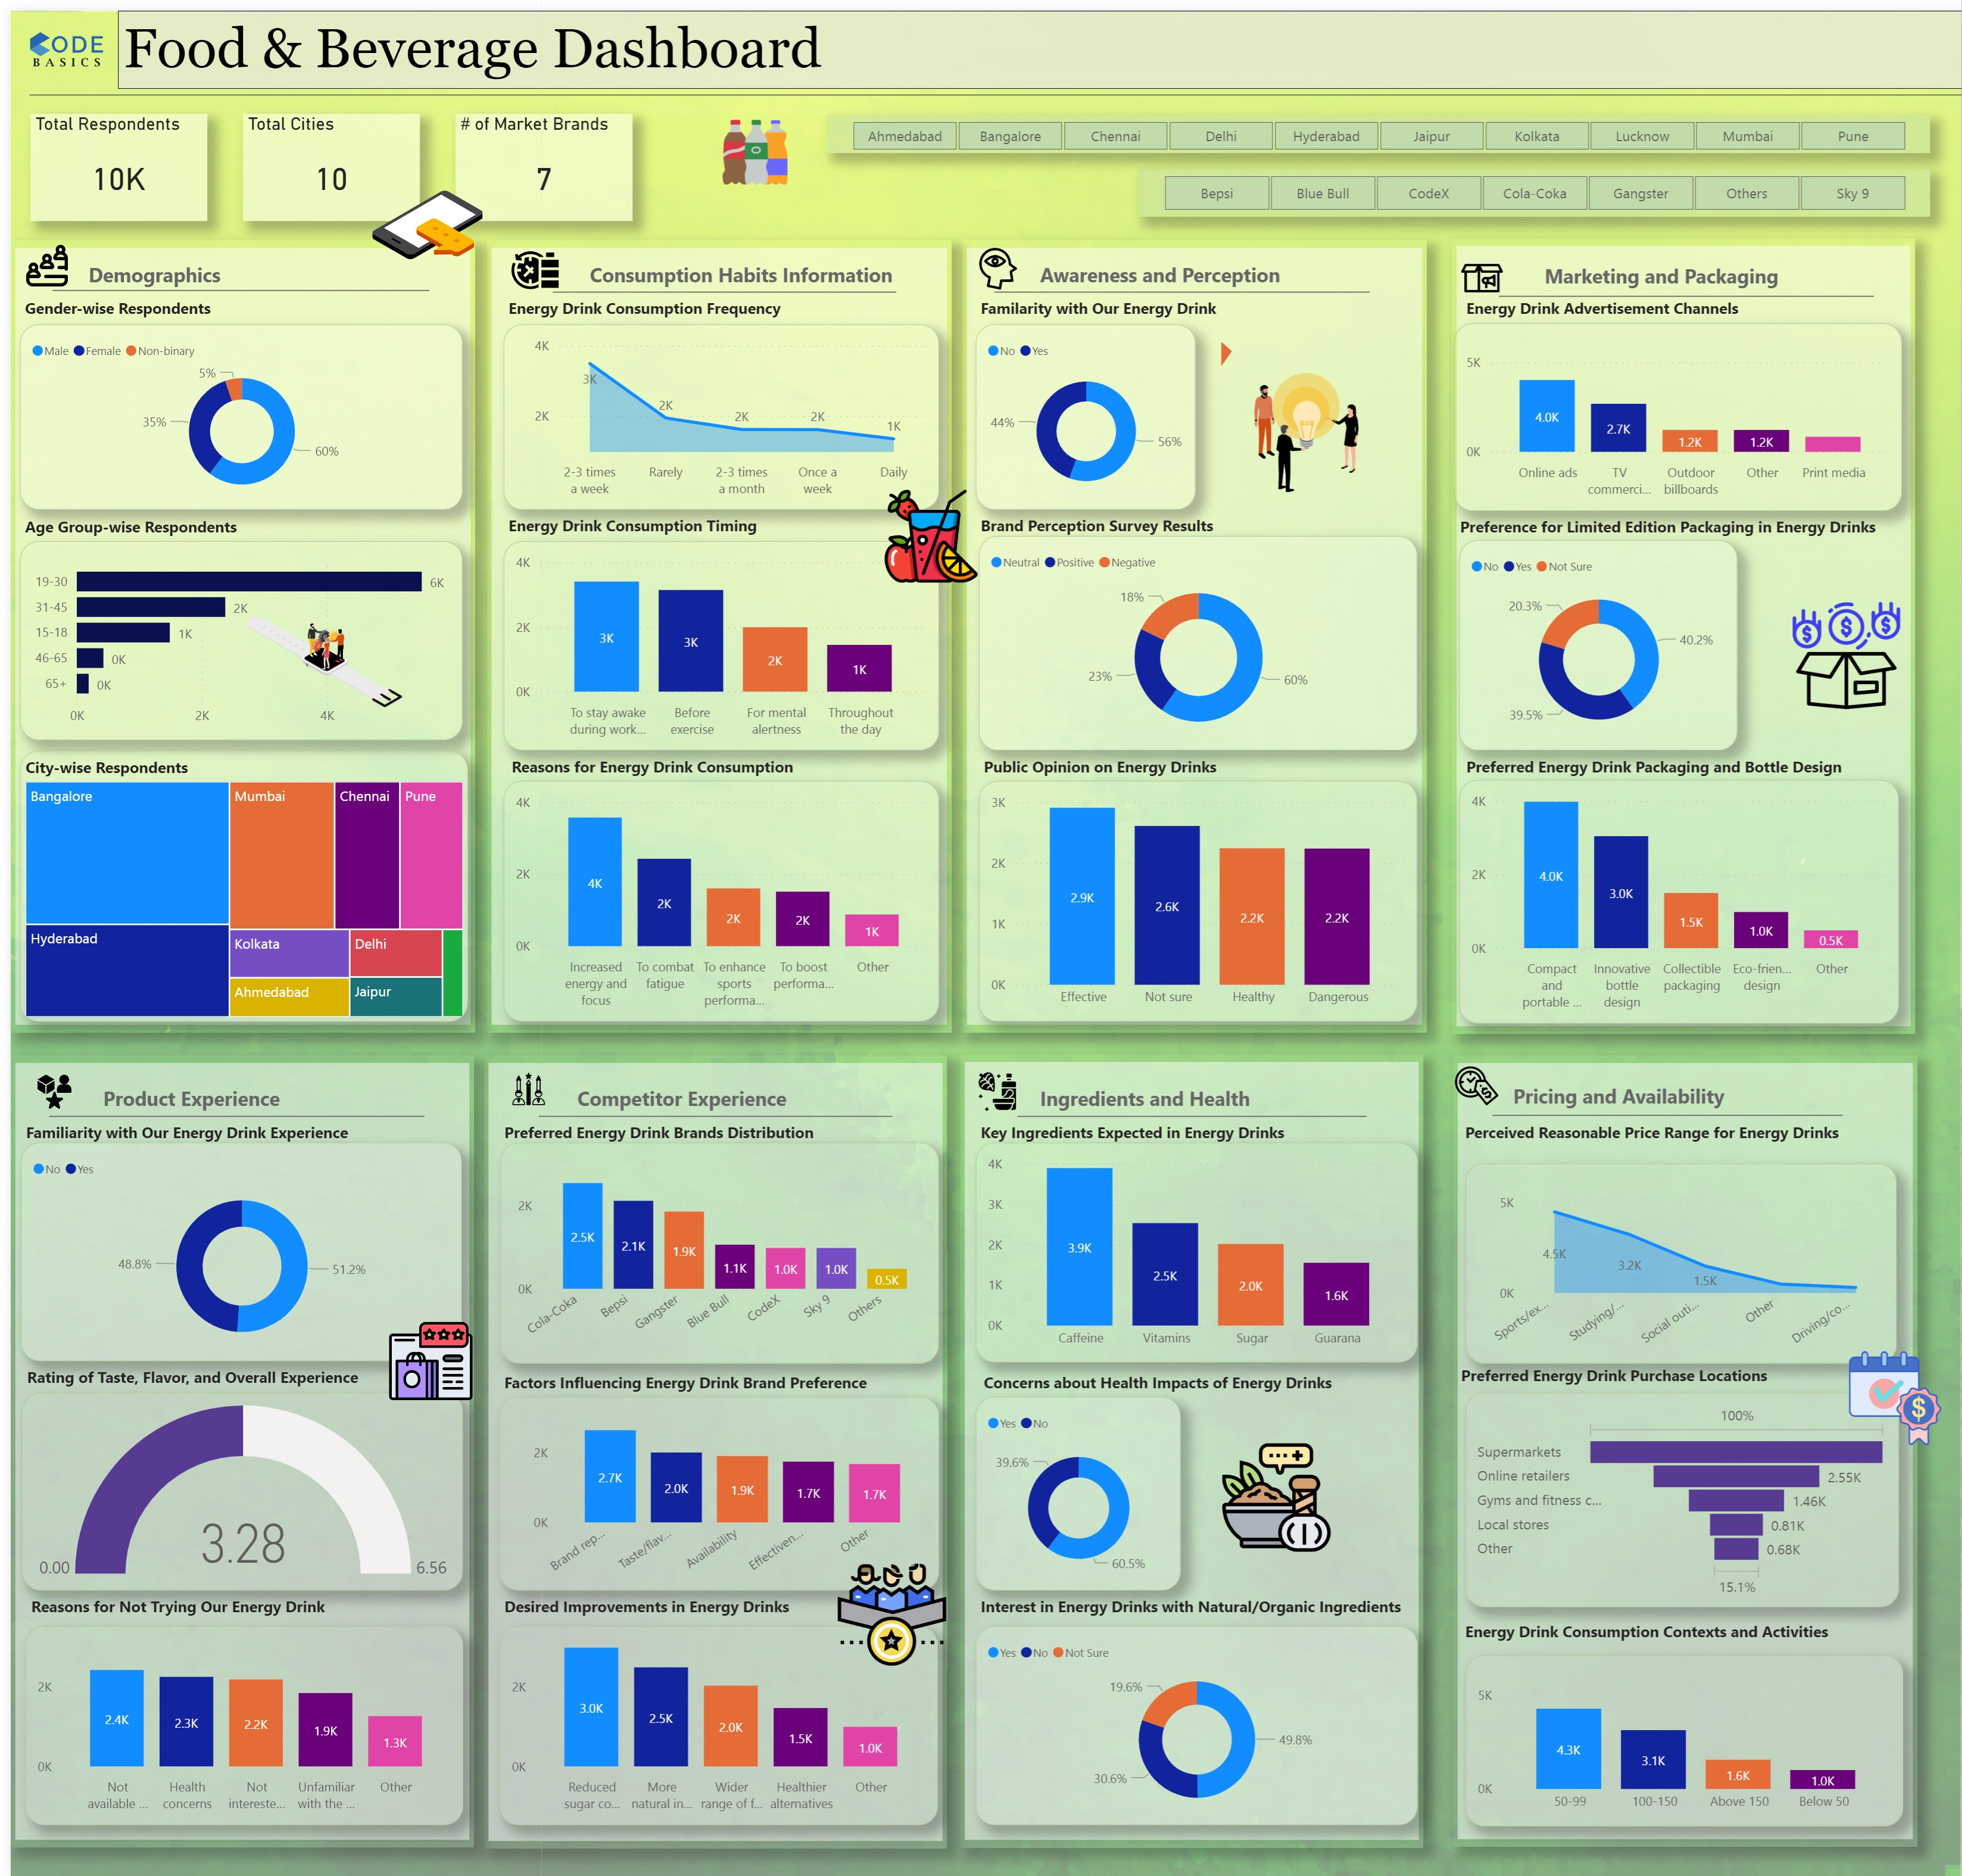

This screenshot's page, from the dashboard's own definition file:
{"tool":"powerbi","page":{"name":"Page_","canvas":[1872,1790],"ordinal":5},"visuals":[{"type":"textbox","box":[103.3,0,1793.3,75],"z":0},{"type":"basicShape","box":[8.3,60,1888.3,41.7],"z":1000},{"type":"basicShape","box":[0,220,445.7,761.4],"z":2000},{"type":"card","title":"Total Respondents","fields":{"Values":["CountNonNull(fact_survey_responses.Respondent_ID)"]},"box":[18.5,99.4,170,102.3],"z":3000},{"type":"basicShape","box":[457.1,220,445.7,761.4],"z":4000},{"type":"basicShape","box":[912.9,220,445.7,761.4],"z":5000},{"type":"basicShape","box":[510,250,350,40],"z":6000},{"type":"textbox","box":[982.9,235.7,265.7,38.6],"z":7000},{"type":"basicShape","box":[934,250,380,40],"z":8000},{"type":"textbox","box":[70,235.7,334.3,38.6],"z":9000},{"type":"basicShape","box":[30.2,248.9,381.4,39.5],"z":10000},{"type":"donutChart","fields":{"Category":["dim_repondents.Gender"],"Y":["CountNonNull(fact_survey_responses.Respondent_ID)"]},"box":[8.6,301.4,425.7,177.1],"z":11000},{"type":"areaChart","fields":{"Category":["fact_survey_responses.Consume_frequency"],"Y":["CountNonNull(fact_survey_responses.Respondent_ID)"]},"box":[472.9,301.4,418.6,177.1],"z":12000},{"type":"textbox","box":[472.9,270,352.9,31.4],"z":13000},{"type":"textbox","box":[472.9,478.6,332.9,40],"z":14000},{"type":"pieChart","fields":{"Category":["fact_survey_responses.Heard_before"],"Y":["CountNonNull(fact_survey_responses.Respondent_ID)"]},"box":[925.7,301.4,211.4,177.1],"z":15000},{"type":"basicShape","box":[1147.1,311.4,38.6,31.4],"z":16000},{"type":"clusteredBarChart","fields":{"Y":["CountNonNull(fact_survey_responses.Respondent_ID)"],"Category":["dim_repondents.Age"]},"box":[8.6,508.6,425.7,191.4],"z":17000},{"type":"textbox","box":[9,479.5,349.2,34.5],"z":18000},{"type":"image","box":[1147.1,342.9,192.9,124.3],"z":19000},{"type":"image","box":[221.8,556,158.8,139.4],"z":20000},{"type":"card","title":"Total Cities","fields":{"Values":["Count(dim_cities.City)"]},"box":[222.8,99.4,170,102.3],"z":21000},{"type":"card","title":"# of Market Brands","fields":{"Values":["Count(fact_survey_responses.Current_brands)"]},"box":[427.1,99.4,170,102.3],"z":22000},{"type":"image","box":[341.9,151,115.9,108.1],"z":23000},{"type":"treemap","title":"City-wise Respondents","fields":{"Group":["dim_cities.City"],"Values":["CountNonNull(fact_survey_responses.Respondent_ID)"]},"box":[8.6,710,430,260],"z":24000},{"type":"textbox","box":[9,269.7,383.6,31.5],"z":25000},{"type":"columnChart","fields":{"Y":["CountNonNull(fact_survey_responses.Respondent_ID)"],"Series":["fact_survey_responses.Consume_time"],"Category":["fact_survey_responses.Consume_time"]},"box":[472.9,508.6,418.6,201.4],"z":26000},{"type":"textbox","box":[475.7,710,340,38.6],"z":27000},{"type":"columnChart","fields":{"Y":["CountNonNull(fact_survey_responses.Respondent_ID)"],"Category":["fact_survey_responses.Consume_reason"],"Series":["fact_survey_responses.Consume_reason"]},"box":[472.9,738.6,418.6,231.4],"z":28000},{"type":"textbox","box":[925.7,270,258.6,30],"z":29000},{"type":"pieChart","fields":{"Category":["fact_survey_responses.Brand_perception"],"Y":["CountNonNull(fact_survey_responses.Respondent_ID)"]},"box":[928.6,504.3,421.4,205.7],"z":30000},{"type":"columnChart","fields":{"Y":["CountNonNull(fact_survey_responses.Respondent_ID)"],"Category":["fact_survey_responses.General_perception"],"Series":["fact_survey_responses.General_perception"]},"box":[928.6,738.6,421.4,231.4],"z":31000},{"type":"image","box":[675.3,99.6,79.1,72.7],"z":32000},{"type":"basicShape","box":[0,1002,445,761],"z":33000},{"type":"basicShape","box":[454,1002,445,762],"z":34000},{"type":"basicShape","box":[911.4,1001.4,444.3,761.4],"z":35000},{"type":"basicShape","box":[27.1,1045.7,380,30],"z":36000},{"type":"basicShape","box":[497.1,1045.7,358.6,30],"z":37000},{"type":"basicShape","box":[955.7,1035.7,355.7,50],"z":38000},{"type":"textbox","box":[84,1026,330,36],"z":39000},{"type":"textbox","box":[538.6,1025.7,317.1,50],"z":40000},{"type":"textbox","box":[982.9,1025.7,292.9,50],"z":41000},{"type":"textbox","box":[468.6,1061.4,357.1,41.4],"z":42000},{"type":"textbox","box":[468.6,1301.4,387.1,57.1],"z":43000},{"type":"textbox","box":[468.6,1515.7,357.1,45.7],"z":44000},{"type":"textbox","box":[928.6,1301.4,362.9,37.1],"z":45000},{"type":"textbox","box":[926.2,1516.2,433.8,46.2],"z":46000},{"type":"textbox","box":[926.2,1061.2,385,41.2],"z":47000},{"type":"textbox","box":[11.2,1296.2,381.2,50],"z":48000},{"type":"textbox","box":[10,1061.4,391.4,41.4],"z":49000},{"type":"textbox","box":[11.4,1515.7,400,34.3],"z":50000},{"type":"columnChart","fields":{"Y":["CountNonNull(fact_survey_responses.Respondent_ID)"],"Category":["fact_survey_responses.Ingredients_expected"],"Series":["fact_survey_responses.Ingredients_expected"]},"box":[925.7,1085.7,424.3,211.4],"z":51000},{"type":"donutChart","fields":{"Y":["CountNonNull(fact_survey_responses.Respondent_ID)"],"Category":["fact_survey_responses.Health_concerns"]},"box":[925.7,1330,197.1,185.7],"z":52000},{"type":"columnChart","fields":{"Y":["CountNonNull(fact_survey_responses.Respondent_ID)"],"Series":["fact_survey_responses.Improvements_desired"],"Category":["fact_survey_responses.Improvements_desired"]},"box":[468.6,1550,421.4,191.4],"z":53000},{"type":"columnChart","fields":{"Y":["CountNonNull(fact_survey_responses.Respondent_ID)"],"Category":["fact_survey_responses.Reasons_for_choosing_brands"],"Series":["fact_survey_responses.Reasons_for_choosing_brands"]},"box":[468.6,1330,422.9,185.7],"z":54000},{"type":"columnChart","fields":{"Y":["CountNonNull(fact_survey_responses.Respondent_ID)"],"Category":["fact_survey_responses.Current_brands"],"Series":["fact_survey_responses.Current_brands"]},"box":[470,1086.2,421.2,211.2],"z":55000},{"type":"gauge","fields":{"Y":["Avg(fact_survey_responses.Taste_experience)"]},"box":[11.4,1325.7,422.9,190],"z":56000},{"type":"columnChart","fields":{"Y":["CountNonNull(fact_survey_responses.Respondent_ID)"],"Category":["fact_survey_responses.Reasons_preventing_trying"],"Series":["fact_survey_responses.Reasons_preventing_trying"]},"box":[14.3,1550,420,191.4],"z":57000},{"type":"donutChart","fields":{"Y":["CountNonNull(fact_survey_responses.Respondent_ID)"],"Category":["fact_survey_responses.Tried_before"]},"box":[10,1085.7,422.9,210],"z":58000},{"type":"donutChart","fields":{"Y":["CountNonNull(fact_survey_responses.Respondent_ID)"],"Category":["fact_survey_responses.Interest_in_natural_or_organic"]},"box":[925.7,1550,424.3,191.4],"z":59000},{"type":"image","box":[911.4,1014.3,71.4,47.1],"z":60000},{"type":"image","box":[475.7,211.4,55.7,75.7],"z":61000},{"type":"image","box":[0,220,70,50],"z":62000},{"type":"image","box":[895.7,222.9,102.9,50],"z":63000},{"type":"image","box":[461.4,1014.3,71.4,41.4],"z":64000},{"type":"image","box":[0,1014.3,84.3,47.1],"z":65000},{"type":"image","box":[1138,1370,154,114],"z":66000},{"type":"image","box":[333.8,1251.2,138.8,90],"z":67000},{"type":"image","box":[826,455,115,99],"z":68000},{"type":"image","box":[788.8,1438.8,113.8,200],"z":69000},{"type":"slicer","fields":{"Values":["dim_cities.City"]},"box":[783.3,100,1058.3,36.7],"z":70000},{"type":"slicer","fields":{"Values":["fact_survey_responses.Current_brands"]},"box":[1081.7,151.7,760,46.7],"z":71000},{"type":"textbox","box":[551.4,235.7,330,38.6],"z":72000},{"type":"textbox","box":[925.7,478.6,402.9,30],"z":73000},{"type":"textbox","box":[928.6,710,400,38.6],"z":74000},{"type":"basicShape","box":[1383.3,218.3,445,763.3],"z":75000},{"type":"textbox","box":[1461.7,236.7,335,36.7],"z":76000},{"type":"textbox","box":[1391.7,710,406.7,35],"z":77000},{"type":"textbox","box":[1381.7,480,426.7,35],"z":78000},{"type":"donutChart","fields":{"Y":["CountNonNull(fact_survey_responses.Respondent_ID)"],"Category":["fact_survey_responses.Limited_edition_packaging"],"Series":["fact_survey_responses.Limited_edition_packaging"]},"box":[1390,508.3,266.7,201.7],"z":79000},{"type":"columnChart","fields":{"Y":["CountNonNull(fact_survey_responses.Respondent_ID)"],"Category":["fact_survey_responses.Marketing_channels"],"Series":["fact_survey_responses.Marketing_channels"]},"box":[1385,300,430,180],"z":80000},{"type":"columnChart","fields":{"Y":["CountNonNull(fact_survey_responses.Respondent_ID)"],"Category":["fact_survey_responses.Packaging_preference"],"Series":["fact_survey_responses.Packaging_preference"]},"box":[1390,738.3,421.7,233.3],"z":81000},{"type":"image","box":[1376.7,231.7,70,50],"z":82000},{"type":"image","box":[1694.8,501.4,132.9,235.7],"z":83000},{"type":"basicShape","box":[1384,1002,446,760],"z":85000},{"type":"textbox","box":[1387.1,1061.4,434.3,41.4],"z":86000},{"type":"textbox","box":[1387.1,1294.3,412.9,37.1],"z":87000},{"type":"textbox","box":[1391.4,1540,435.7,38.6],"z":88000},{"type":"columnChart","fields":{"Y":["CountNonNull(fact_survey_responses.Respondent_ID)"],"Category":["fact_survey_responses.Price_range"],"Series":["fact_survey_responses.Price_range"]},"box":[1396,1578,420,164],"z":89000},{"type":"funnel","fields":{"Category":["fact_survey_responses.Purchase_location"],"Y":["CountNonNull(fact_survey_responses.Respondent_ID)"]},"box":[1396,1326,416,206],"z":90000},{"type":"stackedAreaChart","fields":{"Category":["fact_survey_responses.Typical_consumption_situations"],"Y":["CountNonNull(fact_survey_responses.Respondent_ID)"]},"box":[1396,1106,414,192],"z":91000},{"type":"image","box":[1376.7,1008.3,60,51.7],"z":92000},{"type":"image","box":[1751.7,1280,113.3,103.3],"z":93000},{"type":"image","box":[5,0,98.3,75],"z":94000},{"type":"textbox","box":[1391.7,270,426.7,31.7],"z":95000},{"type":"basicShape","box":[1411.7,1045,356.7,30],"z":96000},{"type":"textbox","box":[1437,1024,241,37],"z":97000},{"type":"basicShape","box":[1418,254,380,40],"z":97001}]}

Visuals, with their boxes in screenshot pixels (x1, y1, x2, y2), scaled from the page's 1872x1790 canvas onto the 1962x1876 screenshot:
textbox: <bbox>108, 0, 1961, 79</bbox>
basicShape: <bbox>9, 63, 1961, 107</bbox>
basicShape: <bbox>0, 230, 467, 1029</bbox>
"Total Respondents" card: <bbox>20, 104, 198, 211</bbox>
basicShape: <bbox>479, 230, 946, 1029</bbox>
basicShape: <bbox>957, 230, 1424, 1029</bbox>
basicShape: <bbox>535, 262, 902, 304</bbox>
textbox: <bbox>1030, 247, 1309, 288</bbox>
basicShape: <bbox>979, 262, 1377, 304</bbox>
textbox: <bbox>73, 247, 424, 288</bbox>
basicShape: <bbox>32, 261, 431, 303</bbox>
donutChart - dim_repondents.Gender x CountNonNull(fact_survey_responses.Respondent_ID): <bbox>9, 316, 455, 501</bbox>
areaChart - fact_survey_responses.Consume_frequency x CountNonNull(fact_survey_responses.Respondent_ID): <bbox>495, 316, 934, 501</bbox>
textbox: <bbox>495, 283, 866, 316</bbox>
textbox: <bbox>495, 501, 844, 544</bbox>
pieChart - fact_survey_responses.Heard_before x CountNonNull(fact_survey_responses.Respondent_ID): <bbox>970, 316, 1191, 501</bbox>
basicShape: <bbox>1202, 326, 1243, 359</bbox>
clusteredBarChart - CountNonNull(fact_survey_responses.Respondent_ID) x dim_repondents.Age: <bbox>9, 533, 455, 734</bbox>
textbox: <bbox>10, 503, 375, 539</bbox>
image: <bbox>1202, 359, 1405, 490</bbox>
image: <bbox>232, 582, 399, 729</bbox>
"Total Cities" card: <bbox>233, 104, 411, 211</bbox>
"# of Market Brands" card: <bbox>448, 104, 626, 211</bbox>
image: <bbox>358, 158, 480, 272</bbox>
"City-wise Respondents" treemap: <bbox>9, 744, 460, 1017</bbox>
textbox: <bbox>10, 283, 411, 316</bbox>
columnChart - CountNonNull(fact_survey_responses.Respondent_ID) x fact_survey_responses.Consume_time: <bbox>495, 533, 934, 744</bbox>
textbox: <bbox>498, 744, 855, 784</bbox>
columnChart - CountNonNull(fact_survey_responses.Respondent_ID) x fact_survey_responses.Consume_reason: <bbox>495, 774, 934, 1017</bbox>
textbox: <bbox>970, 283, 1242, 314</bbox>
pieChart - fact_survey_responses.Brand_perception x CountNonNull(fact_survey_responses.Respondent_ID): <bbox>973, 528, 1415, 744</bbox>
columnChart - CountNonNull(fact_survey_responses.Respondent_ID) x fact_survey_responses.General_perception: <bbox>973, 774, 1415, 1017</bbox>
image: <bbox>708, 104, 791, 180</bbox>
basicShape: <bbox>0, 1050, 466, 1847</bbox>
basicShape: <bbox>476, 1050, 942, 1849</bbox>
basicShape: <bbox>955, 1049, 1421, 1847</bbox>
basicShape: <bbox>29, 1096, 427, 1127</bbox>
basicShape: <bbox>521, 1096, 897, 1127</bbox>
basicShape: <bbox>1002, 1086, 1374, 1138</bbox>
textbox: <bbox>88, 1076, 434, 1113</bbox>
textbox: <bbox>564, 1075, 897, 1127</bbox>
textbox: <bbox>1030, 1075, 1337, 1127</bbox>
textbox: <bbox>491, 1112, 865, 1156</bbox>
textbox: <bbox>491, 1364, 897, 1424</bbox>
textbox: <bbox>491, 1588, 865, 1637</bbox>
textbox: <bbox>973, 1364, 1353, 1403</bbox>
textbox: <bbox>971, 1589, 1426, 1637</bbox>
textbox: <bbox>971, 1112, 1374, 1155</bbox>
textbox: <bbox>12, 1358, 411, 1411</bbox>
textbox: <bbox>11, 1112, 421, 1156</bbox>
textbox: <bbox>12, 1588, 431, 1625</bbox>
columnChart - CountNonNull(fact_survey_responses.Respondent_ID) x fact_survey_responses.Ingredients_expected: <bbox>970, 1138, 1415, 1360</bbox>
donutChart - CountNonNull(fact_survey_responses.Respondent_ID) x fact_survey_responses.Health_concerns: <bbox>970, 1394, 1177, 1588</bbox>
columnChart - CountNonNull(fact_survey_responses.Respondent_ID) x fact_survey_responses.Improvements_desired: <bbox>491, 1625, 933, 1825</bbox>
columnChart - CountNonNull(fact_survey_responses.Respondent_ID) x fact_survey_responses.Reasons_for_choosing_brands: <bbox>491, 1394, 934, 1588</bbox>
columnChart - CountNonNull(fact_survey_responses.Respondent_ID) x fact_survey_responses.Current_brands: <bbox>492, 1138, 934, 1360</bbox>
gauge - Avg(fact_survey_responses.Taste_experience): <bbox>12, 1389, 455, 1588</bbox>
columnChart - CountNonNull(fact_survey_responses.Respondent_ID) x fact_survey_responses.Reasons_preventing_trying: <bbox>15, 1625, 455, 1825</bbox>
donutChart - CountNonNull(fact_survey_responses.Respondent_ID) x fact_survey_responses.Tried_before: <bbox>11, 1138, 454, 1358</bbox>
donutChart - CountNonNull(fact_survey_responses.Respondent_ID) x fact_survey_responses.Interest_in_natural_or_organic: <bbox>970, 1625, 1415, 1825</bbox>
image: <bbox>955, 1063, 1030, 1112</bbox>
image: <bbox>498, 222, 557, 301</bbox>
image: <bbox>0, 230, 73, 283</bbox>
image: <bbox>939, 233, 1047, 286</bbox>
image: <bbox>484, 1063, 559, 1107</bbox>
image: <bbox>0, 1063, 88, 1112</bbox>
image: <bbox>1193, 1436, 1354, 1556</bbox>
image: <bbox>350, 1311, 495, 1406</bbox>
image: <bbox>866, 477, 986, 581</bbox>
image: <bbox>826, 1508, 946, 1718</bbox>
slicer - dim_cities.City: <bbox>821, 105, 1930, 144</bbox>
slicer - fact_survey_responses.Current_brands: <bbox>1134, 159, 1930, 208</bbox>
textbox: <bbox>578, 247, 924, 288</bbox>
textbox: <bbox>970, 501, 1393, 533</bbox>
textbox: <bbox>973, 744, 1393, 784</bbox>
basicShape: <bbox>1450, 229, 1916, 1029</bbox>
textbox: <bbox>1532, 248, 1883, 286</bbox>
textbox: <bbox>1459, 744, 1885, 781</bbox>
textbox: <bbox>1448, 503, 1895, 540</bbox>
donutChart - CountNonNull(fact_survey_responses.Respondent_ID) x fact_survey_responses.Limited_edition_packaging: <bbox>1457, 532, 1736, 744</bbox>
columnChart - CountNonNull(fact_survey_responses.Respondent_ID) x fact_survey_responses.Marketing_channels: <bbox>1452, 314, 1902, 503</bbox>
columnChart - CountNonNull(fact_survey_responses.Respondent_ID) x fact_survey_responses.Packaging_preference: <bbox>1457, 774, 1899, 1018</bbox>
image: <bbox>1443, 243, 1516, 295</bbox>
image: <bbox>1776, 525, 1916, 772</bbox>
basicShape: <bbox>1451, 1050, 1918, 1847</bbox>
textbox: <bbox>1454, 1112, 1909, 1156</bbox>
textbox: <bbox>1454, 1357, 1886, 1395</bbox>
textbox: <bbox>1458, 1614, 1915, 1654</bbox>
columnChart - CountNonNull(fact_survey_responses.Respondent_ID) x fact_survey_responses.Price_range: <bbox>1463, 1654, 1903, 1826</bbox>
funnel - fact_survey_responses.Purchase_location x CountNonNull(fact_survey_responses.Respondent_ID): <bbox>1463, 1389, 1899, 1606</bbox>
stackedAreaChart - fact_survey_responses.Typical_consumption_situations x CountNonNull(fact_survey_responses.Respondent_ID): <bbox>1463, 1159, 1897, 1360</bbox>
image: <bbox>1443, 1057, 1506, 1111</bbox>
image: <bbox>1836, 1342, 1955, 1450</bbox>
image: <bbox>5, 0, 108, 79</bbox>
textbox: <bbox>1459, 283, 1906, 316</bbox>
basicShape: <bbox>1480, 1095, 1854, 1127</bbox>
textbox: <bbox>1506, 1073, 1759, 1112</bbox>
basicShape: <bbox>1486, 266, 1885, 308</bbox>
